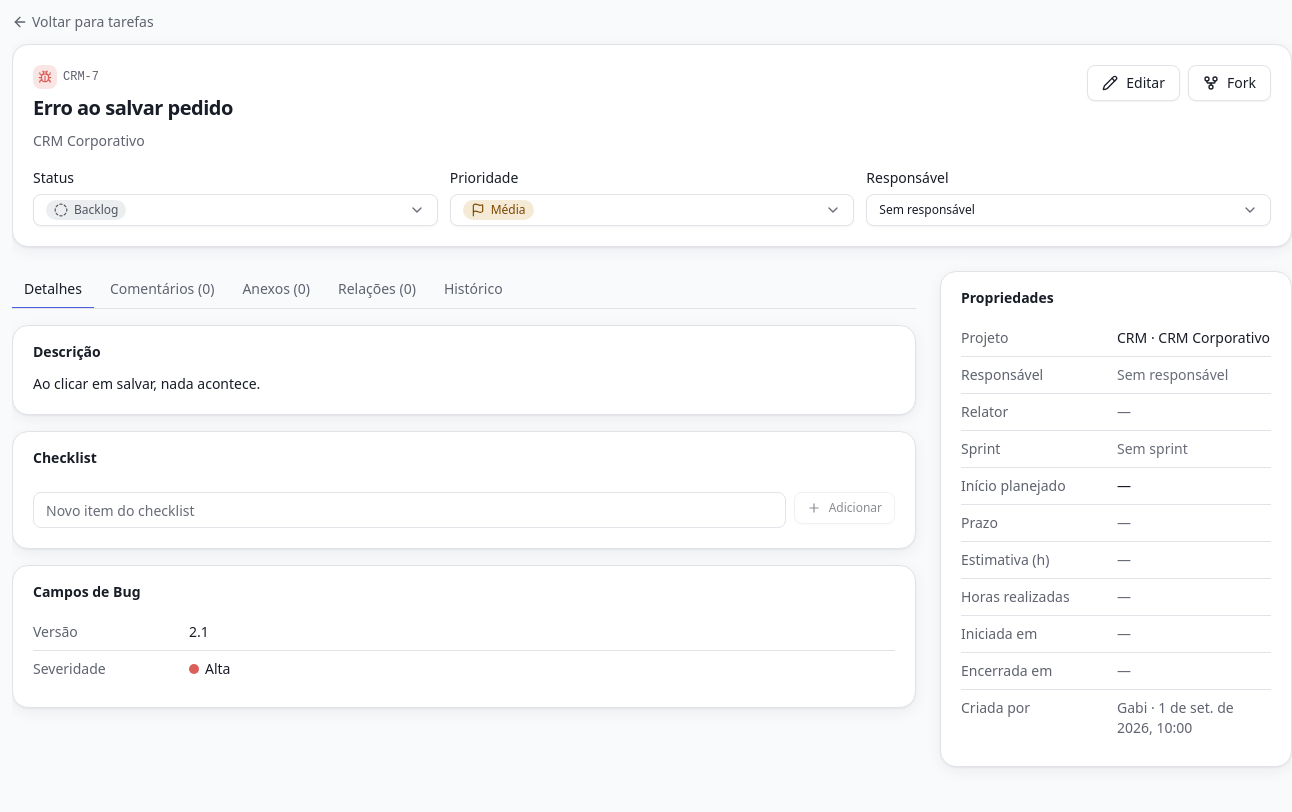
Test case: TaskDetailPage › histórico mostra campos personalizados pelo rótulo
Click the tab "Histórico" at (473, 290), box x1=432 y1=271 x2=515 y2=309
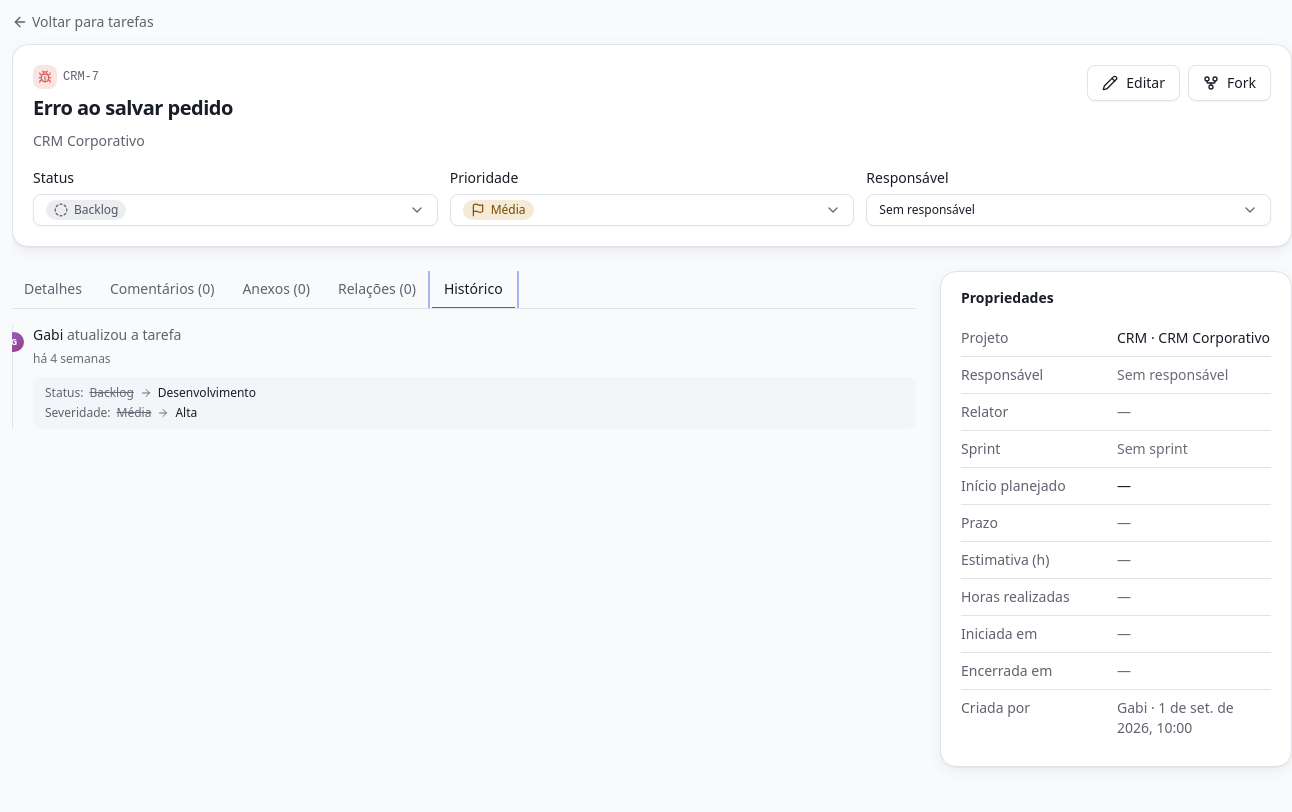
expect the text "Severidade:" is shown: met, box x1=45 y1=405 x2=110 y2=421
expect the text "atualizou a tarefa" is shown: met, box x1=67 y1=325 x2=181 y2=344
